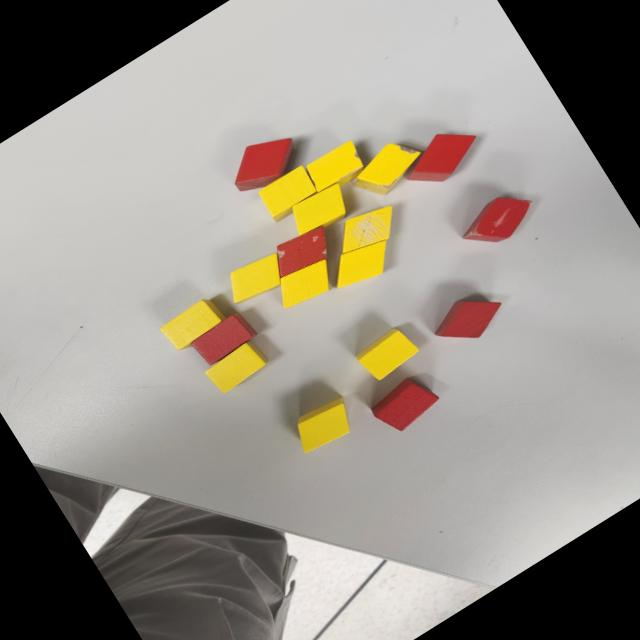broken: (452, 181, 542, 258), (344, 129, 432, 206), (328, 194, 407, 263), (266, 220, 338, 283), (302, 136, 372, 199)
red: (393, 116, 487, 198), (425, 280, 511, 356), (222, 124, 306, 199), (365, 367, 445, 439), (189, 306, 260, 367)
yellow: (322, 230, 398, 297), (286, 392, 360, 458), (220, 245, 292, 309), (284, 178, 356, 241), (268, 252, 339, 314), (156, 292, 228, 353), (354, 322, 422, 383), (202, 336, 270, 396), (255, 163, 321, 222)
